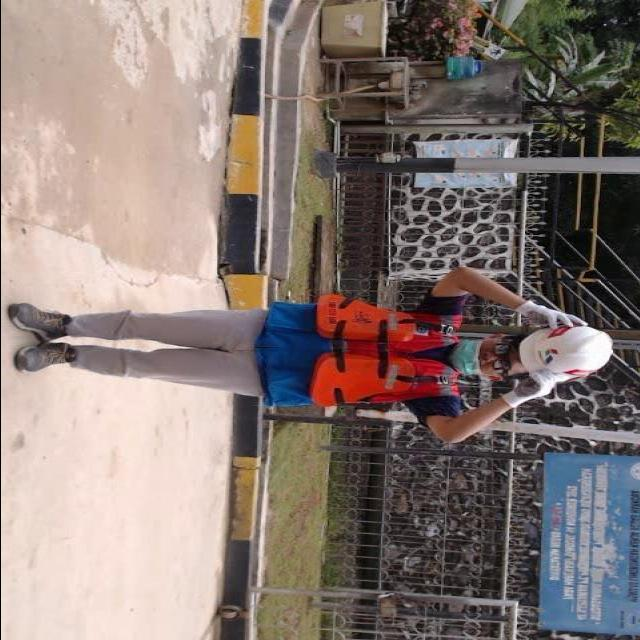helmet: (516, 320, 624, 398)
jacket: (304, 287, 464, 415)
